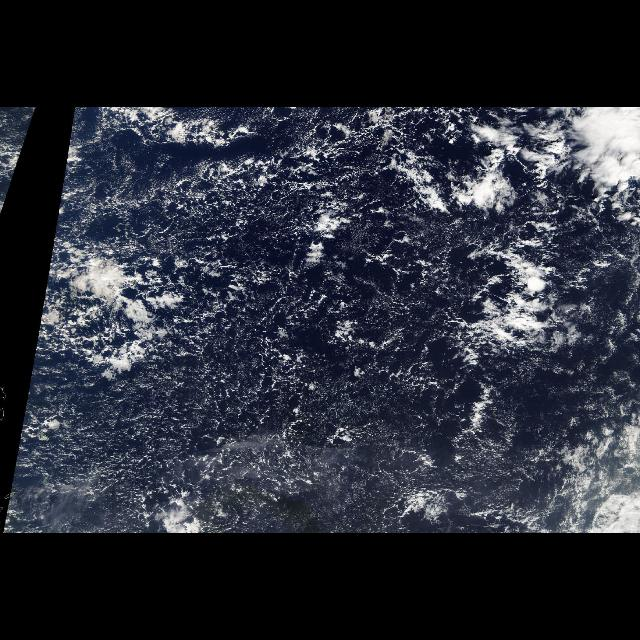Gravel: (190, 245, 484, 415)
Sugar: (31, 321, 552, 533), (138, 109, 458, 311)
